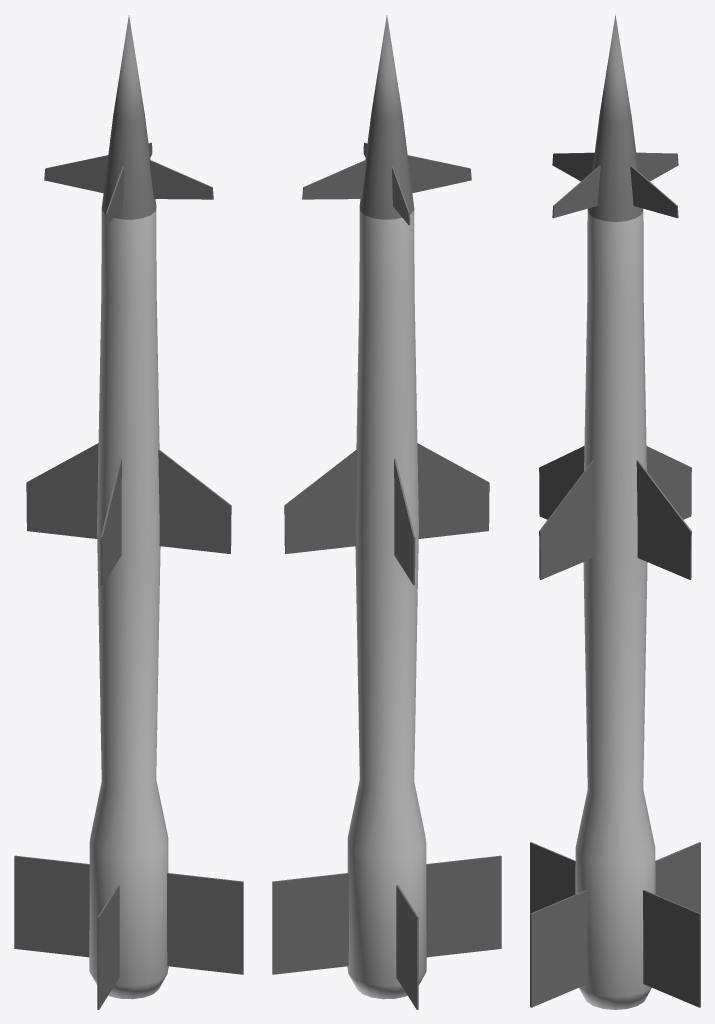
The model's file is missile.fbx.
The picture shows the model from 3 angles, left to right: view 1: azimuth 30°, elevation 25°; view 2: azimuth 150°, elevation 25°; view 3: azimuth 270°, elevation 25°; orthographic projection.
Parts seen in each view (by area): view 1: c-75_missile.001; view 2: c-75_missile.001; view 3: c-75_missile.001.
Part boxes in pixels (x1=…): c-75_missile.001: x1=14, y1=15, x2=243, y2=1009; c-75_missile.001: x1=272, y1=15, x2=501, y2=1009; c-75_missile.001: x1=530, y1=14, x2=700, y2=1009.
Size of the model in its own units: 129 by 819 by 129.
